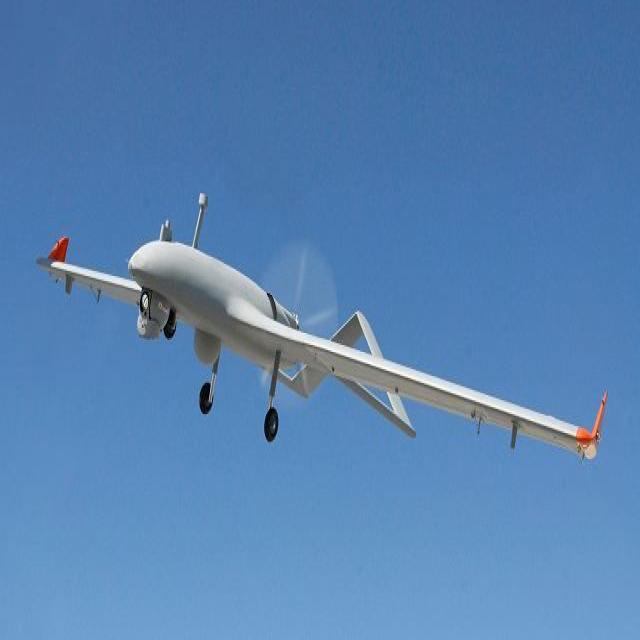iha: (34, 184, 607, 462)
